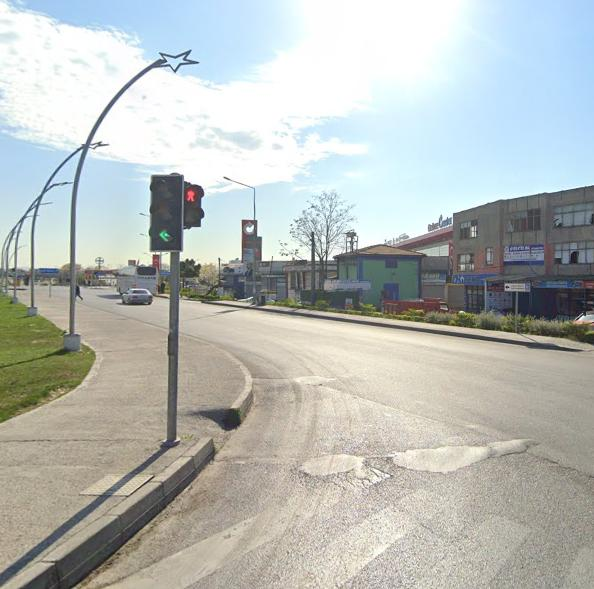greenlight: (145, 171, 185, 255)
